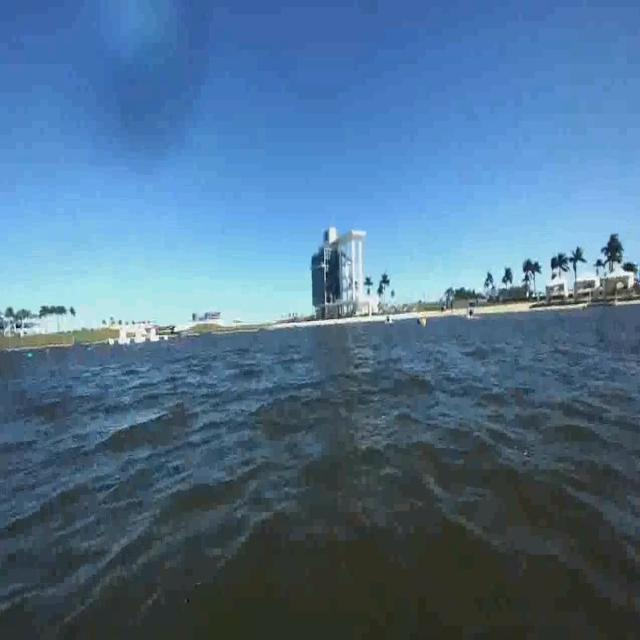green-buoy: (28, 352, 36, 360)
